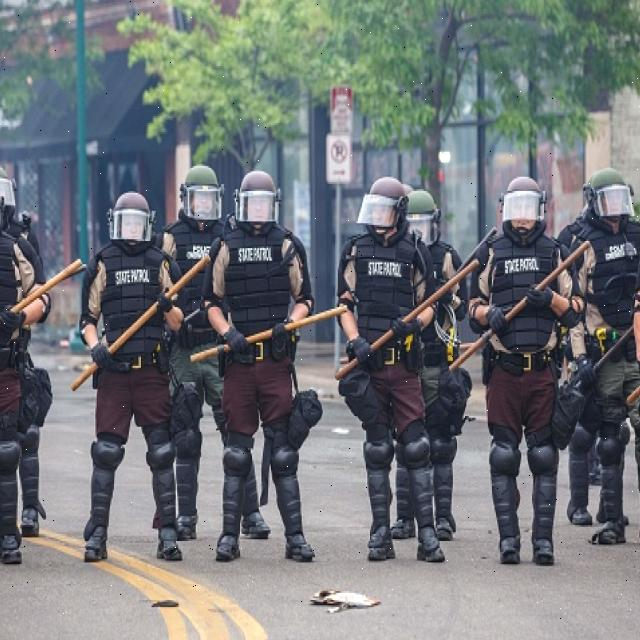police: (335, 165, 461, 563), (77, 179, 193, 564), (201, 168, 310, 558), (470, 178, 573, 559), (150, 169, 239, 560), (579, 152, 640, 600), (0, 151, 51, 588)
